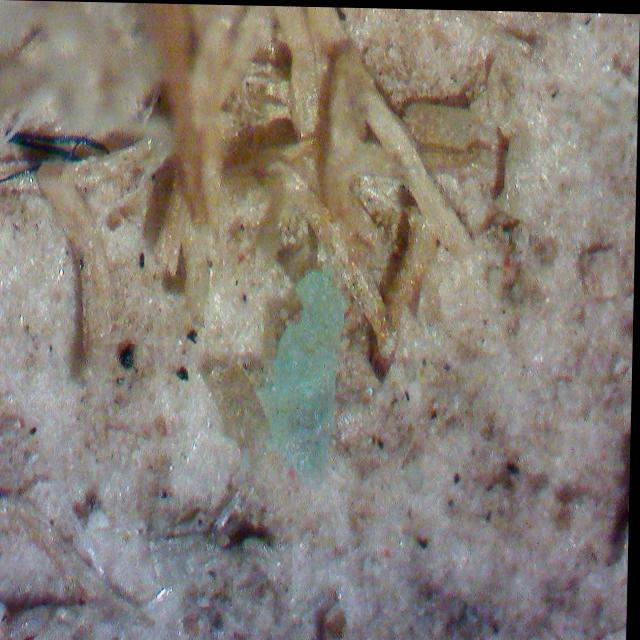microplastic: (256, 269, 347, 482)
